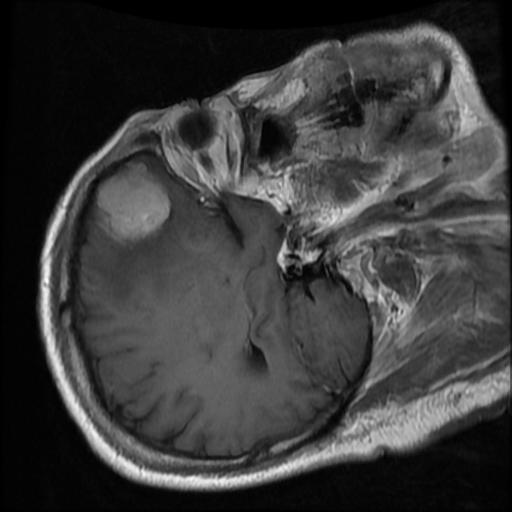meningioma: (93, 162, 172, 245)
